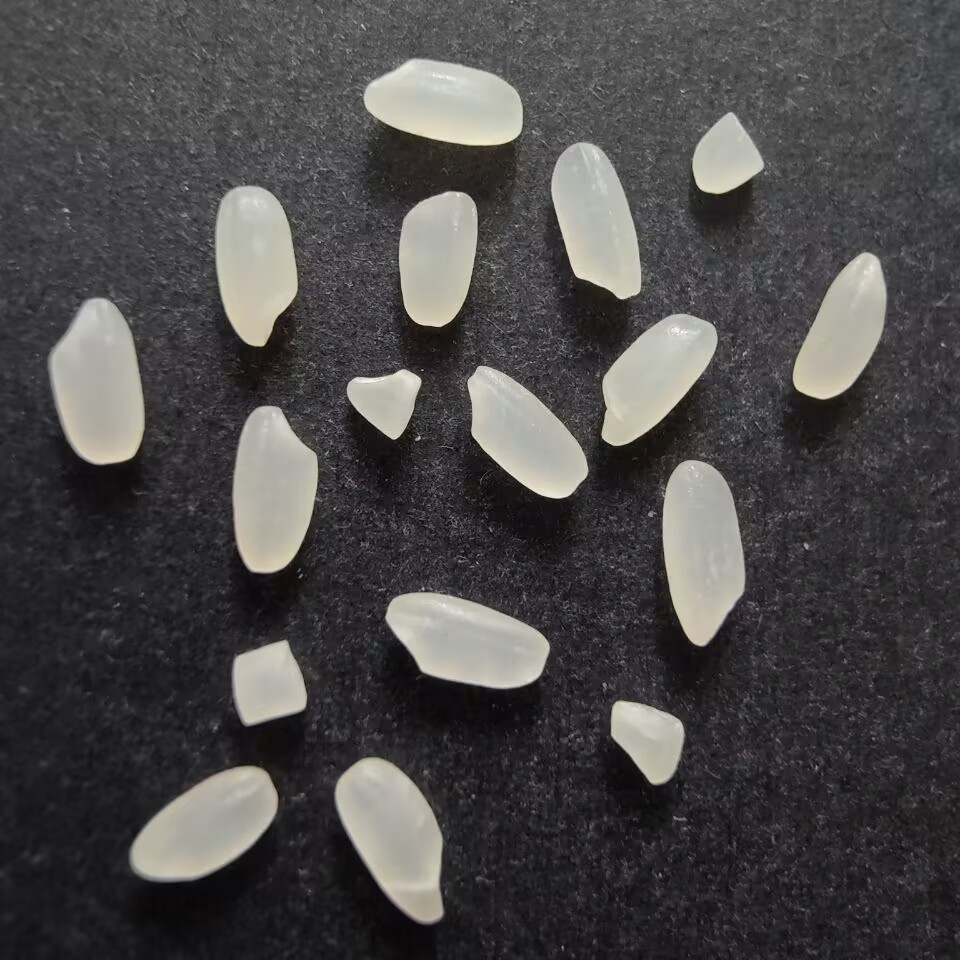broken: (221, 638, 312, 730), (605, 697, 691, 788), (686, 109, 770, 197), (340, 366, 426, 441)
rice: (328, 755, 451, 928), (122, 762, 283, 888), (660, 457, 752, 652), (380, 591, 554, 694), (44, 294, 145, 469), (462, 362, 590, 500), (596, 311, 722, 445), (229, 403, 321, 579), (789, 249, 892, 405), (209, 183, 302, 353), (360, 56, 527, 150), (549, 140, 644, 302), (391, 190, 479, 332)
